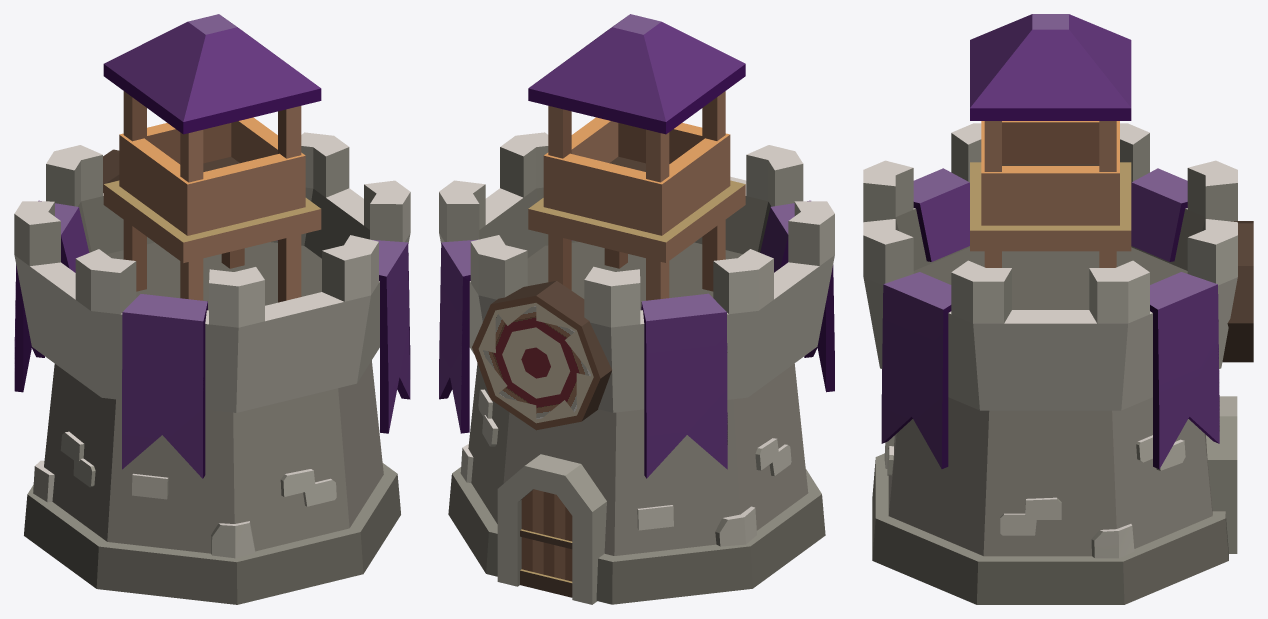
The model's file is ArcherTower_Lv3.obj.
The picture shows the model from 3 angles, left to right: view 1: azimuth 30°, elevation 25°; view 2: azimuth 150°, elevation 25°; view 3: azimuth 270°, elevation 25°; orthographic projection.
Parts seen in each view (by area): view 1: ArcherTower_Lv3; view 2: ArcherTower_Lv3; view 3: ArcherTower_Lv3.
Part boxes in pixels (box(x1,y1,x2,y2)): ArcherTower_Lv3: box(14, 14, 410, 604); ArcherTower_Lv3: box(439, 14, 834, 604); ArcherTower_Lv3: box(863, 14, 1253, 604).
Size of the model in its own units: 6.48 by 9.73 by 6.76.
1 material, 1 textured.
